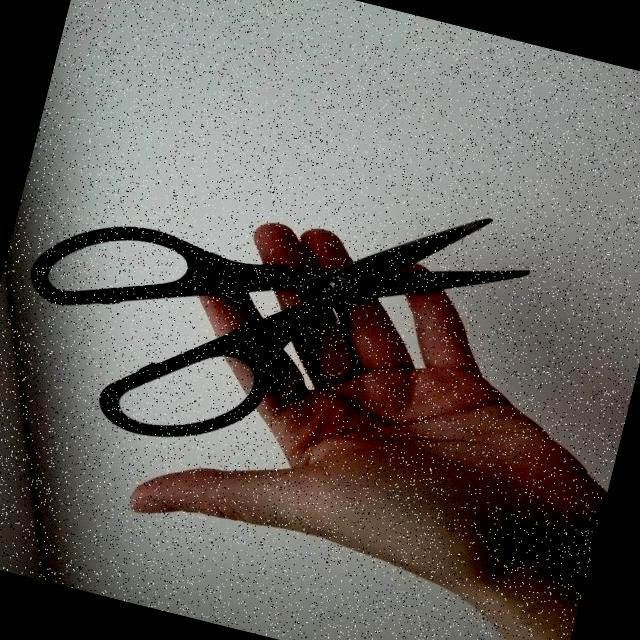scissors: (0, 105, 549, 524)
